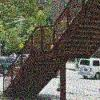stairs: (58, 12, 100, 54)
